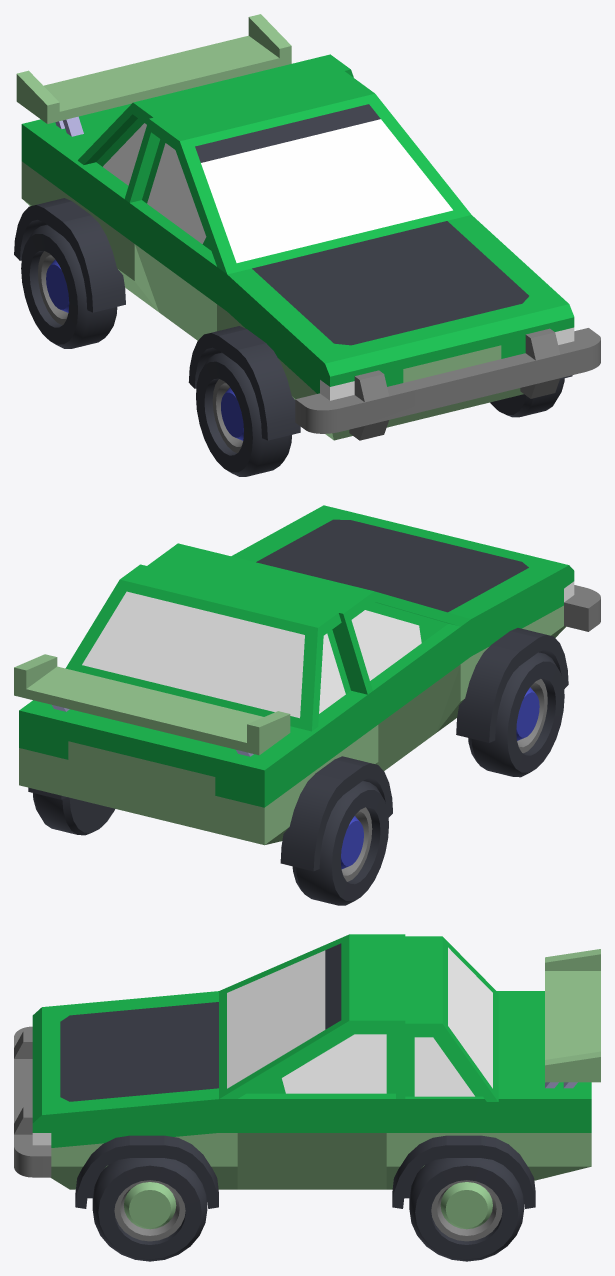
The model's file is Race Car.fbx.
3 renders of one model, top to bottom at view 1: azimuth 30°, elevation 25°; view 2: azimuth 150°, elevation 25°; view 3: azimuth 270°, elevation 25°, orthographic. The views are drawn at different scales.
Visible parts, largest first — view 1: body_topSports, body_frontStandard, wheel_classic (×3), bumper_detailed, spoiler_fins, wheel_coverWide (×2), body_edge, body_backSolid, body_topBackStandard; view 2: body_topBackStandard, body_backSolid, body_frontStandard, wheel_classic (×3), body_topSports, spoiler_fins, wheel_coverWide (×2), body_edge, bumper_detailed; view 3: body_frontStandard, body_topSports, wheel_classic (×2), body_edge, body_backSolid, body_topBackStandard, wheel_coverWide (×2), spoiler_fins, bumper_detailed.
Part boxes in pixels (<box>): body_topSports: <box>124,71,471,274</box>; body_frontStandard: <box>227,215,574,440</box>; wheel_classic (×3): <box>21,224,564,476</box>; bumper_detailed: <box>295,328,600,440</box>; spoiler_fins: <box>16,14,291,136</box>; wheel_coverWide (×2): <box>14,198,300,440</box>; body_edge: <box>124,199,227,340</box>; body_backSolid: <box>21,103,148,304</box>; body_topBackStandard: <box>78,54,353,185</box>; body_topBackStandard: <box>65,564,350,731</box>; body_backSolid: <box>19,690,367,845</box>; body_frontStandard: <box>231,505,574,724</box>; wheel_classic (×3): <box>33,652,564,905</box>; body_topSports: <box>147,543,470,694</box>; spoiler_fins: <box>14,654,290,756</box>; wheel_coverWide (×2): <box>280,628,568,871</box>; body_edge: <box>368,619,470,770</box>; bumper_detailed: <box>564,585,600,631</box>; body_frontStandard: <box>32,991,218,1189</box>; body_topSports: <box>219,934,405,1098</box>; wheel_classic (×2): <box>92,1158,524,1261</box>; body_edge: <box>219,1093,405,1189</box>; body_backSolid: <box>405,991,591,1180</box>; body_topBackStandard: <box>405,936,498,1101</box>; wheel_coverWide (×2): <box>75,1135,535,1208</box>; spoiler_fins: <box>545,949,600,1088</box>; bumper_detailed: <box>14,1026,51,1177</box>.
Size of the model in its own units: 17.16 by 13.08 by 31.5.
